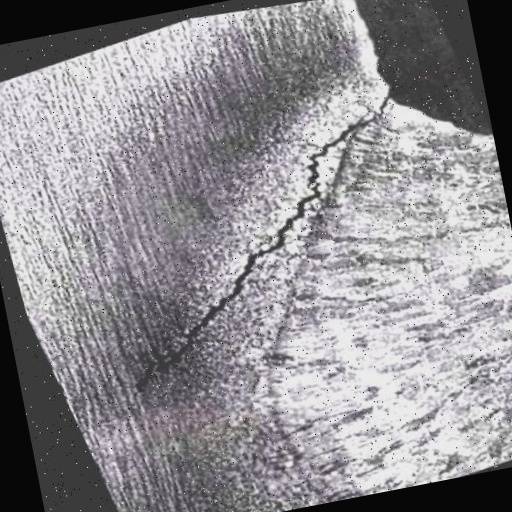crack: (24, 54, 512, 434)
